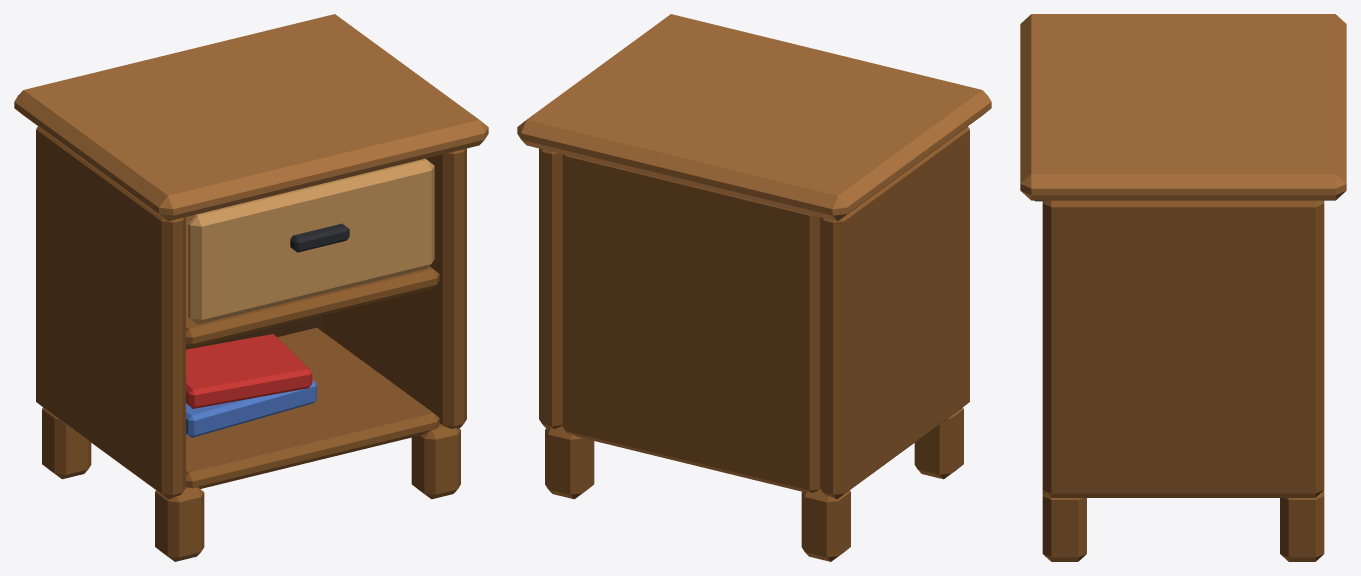
Rendered from Prop_Nightstand.fbx.
3 renders of one model, left to right at view 1: azimuth 30°, elevation 25°; view 2: azimuth 150°, elevation 25°; view 3: azimuth 270°, elevation 25°, orthographic. The views are drawn at different scales.
Visible parts, largest first — view 1: Prop_Nightstand; view 2: Prop_Nightstand; view 3: Prop_Nightstand.
Part boxes in pixels (box(x1,y1,x2,y2)): Prop_Nightstand: box(14, 14, 488, 561); Prop_Nightstand: box(517, 14, 991, 561); Prop_Nightstand: box(1020, 14, 1346, 561).
Size of the model in its own units: 0.54 by 0.59 by 0.44.
